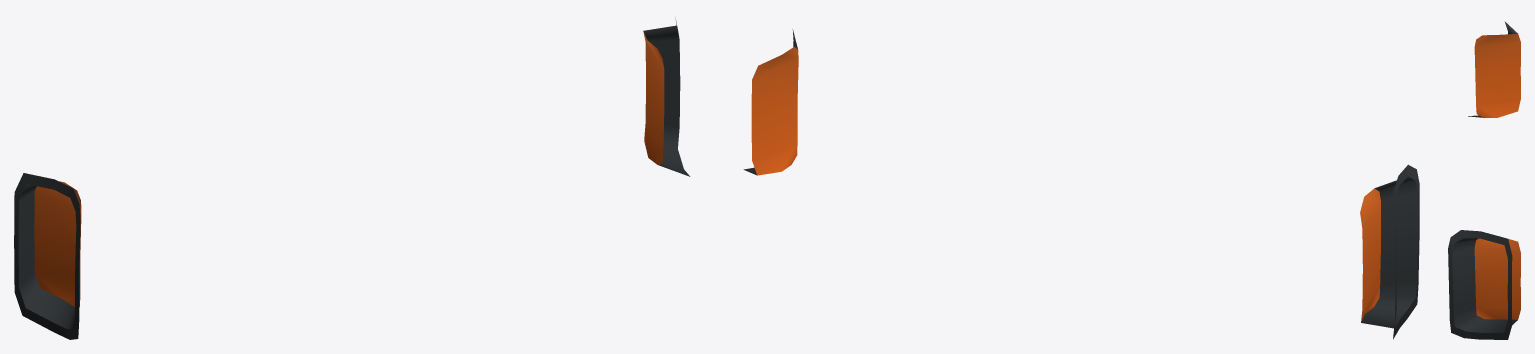
File: Car_10_Turbine.fbx
3 views of the same model, side by side, from view 1: azimuth 30°, elevation 25°; view 2: azimuth 150°, elevation 25°; view 3: azimuth 270°, elevation 25° (orthographic). The views are drawn at different scales.
Parts seen in each view (by area): view 1: Car_10_Turbine; view 2: Car_10_Turbine; view 3: Car_10_Turbine.
Part boxes in pixels (x1,y1,x2,y2): Car_10_Turbine: (14, 19, 690, 339); Car_10_Turbine: (743, 29, 1419, 339); Car_10_Turbine: (1448, 21, 1520, 339).
Size of the model in its own units: 226 by 30.35 by 49.58.
